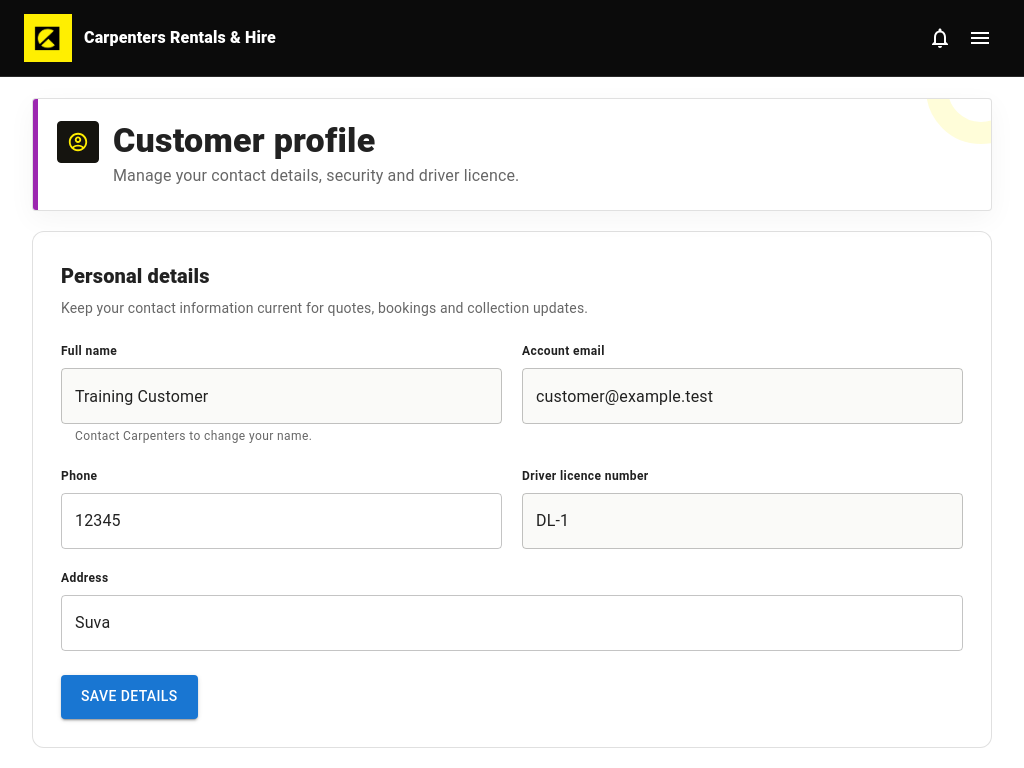
edits profile contacts, verifies email with a sanitized code and keeps API compatibility errors visible
Later steps or results of the test are not shown.
Expected: the heading "Personal details" is shown, [61,264,210,288]
Replace the text in the field labelled "Phone" with "999999" at (282, 521), box [61,493,502,549]
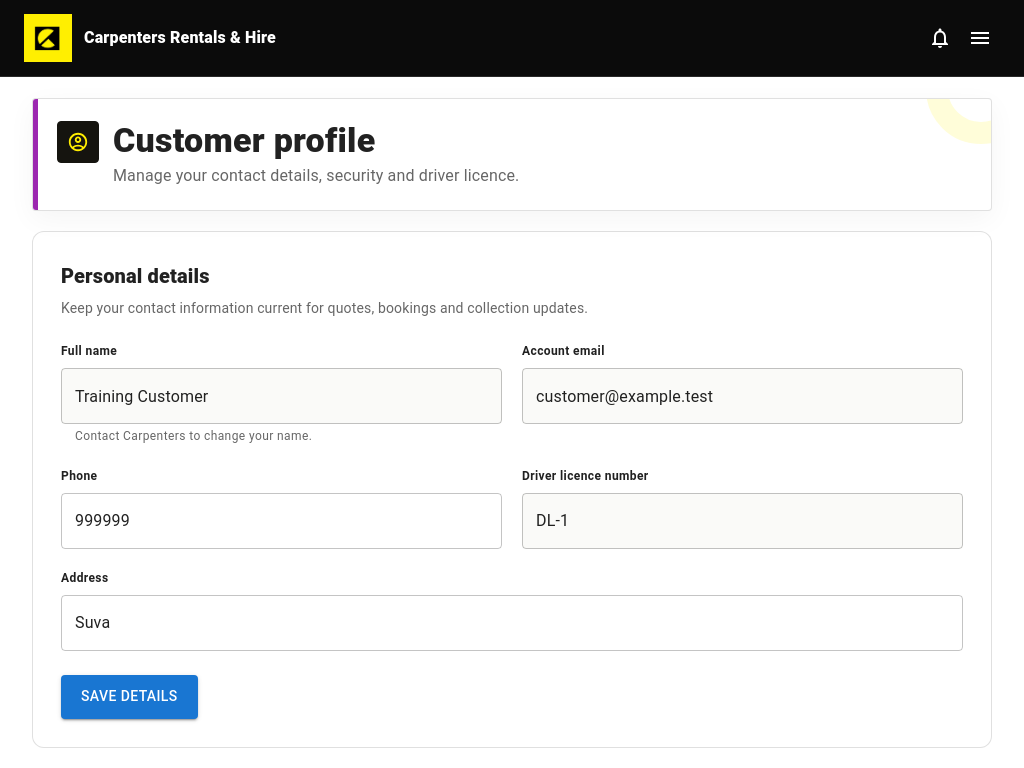
Replace the text in the text box labelled "Address" with "Nadi training address" at (512, 623), box [75,611,949,634]
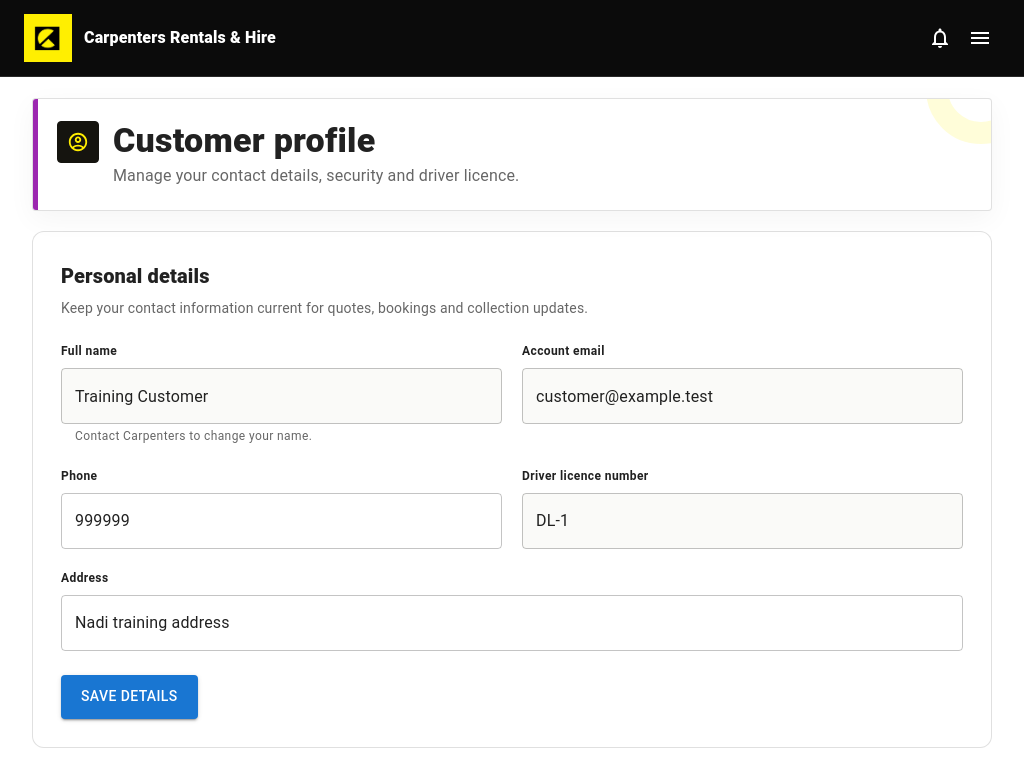
Click the button "Save details" at (129, 697), box [61,675,198,719]
(page scrolled)
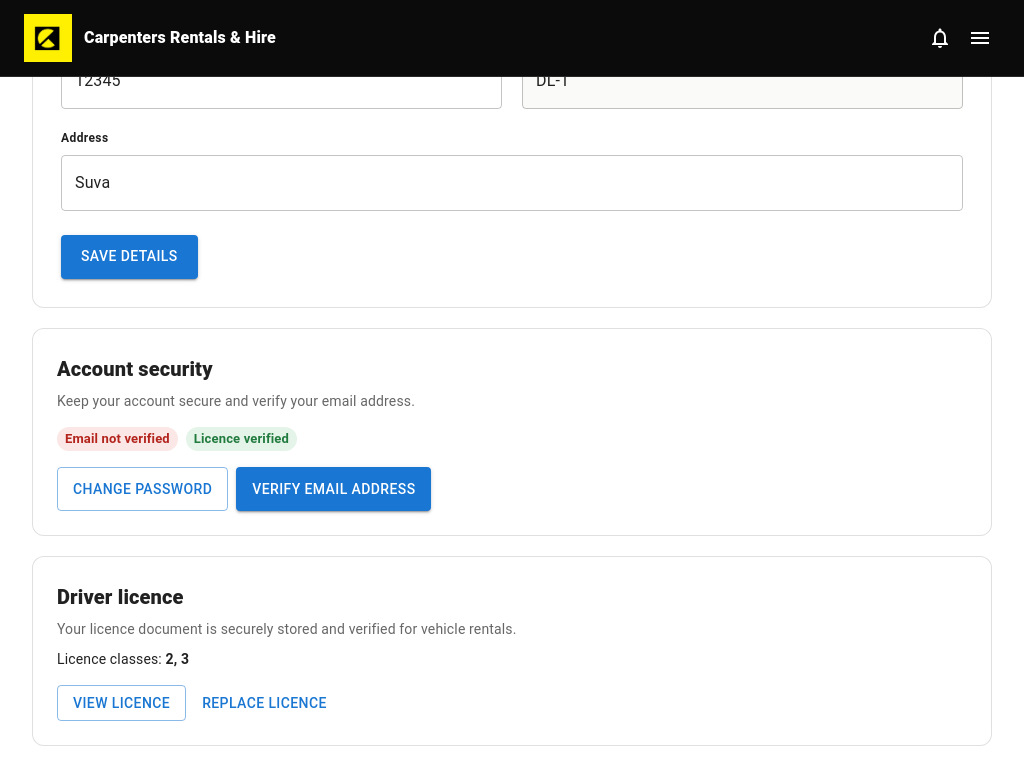
Click the button "Verify email address" at (334, 489), box [236,467,432,511]
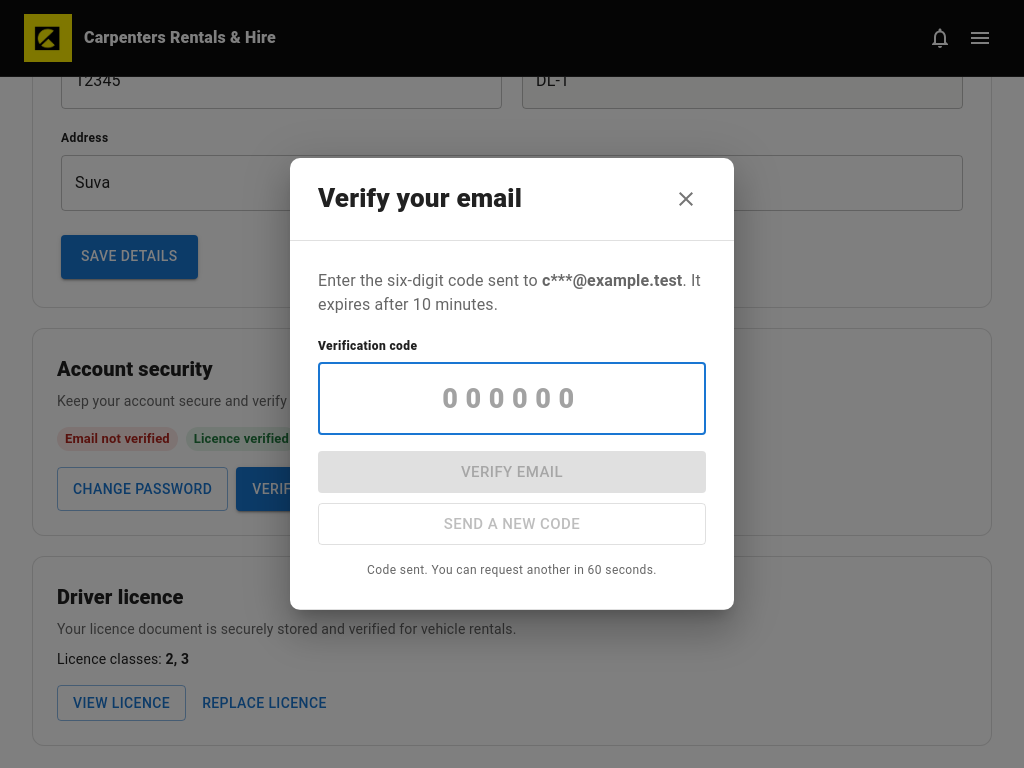
Result: the heading "Verify your email" is shown at [318,179,706,219]
